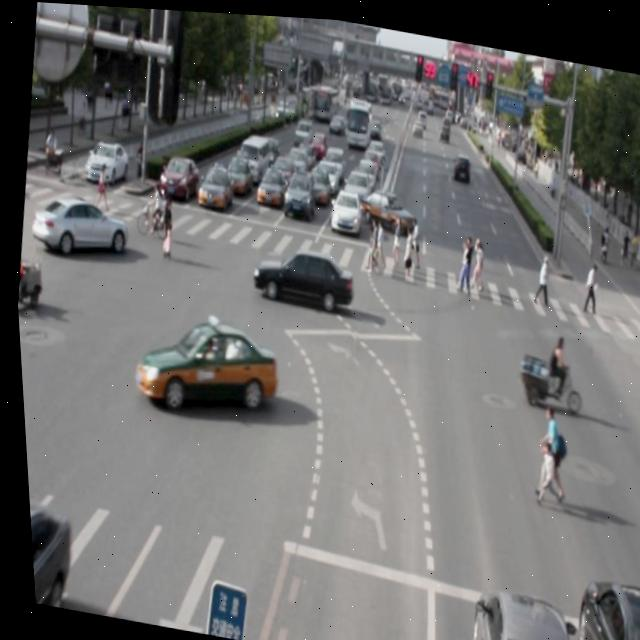car: (123, 308, 280, 426), (245, 233, 355, 315), (449, 569, 575, 640), (551, 554, 640, 640)
